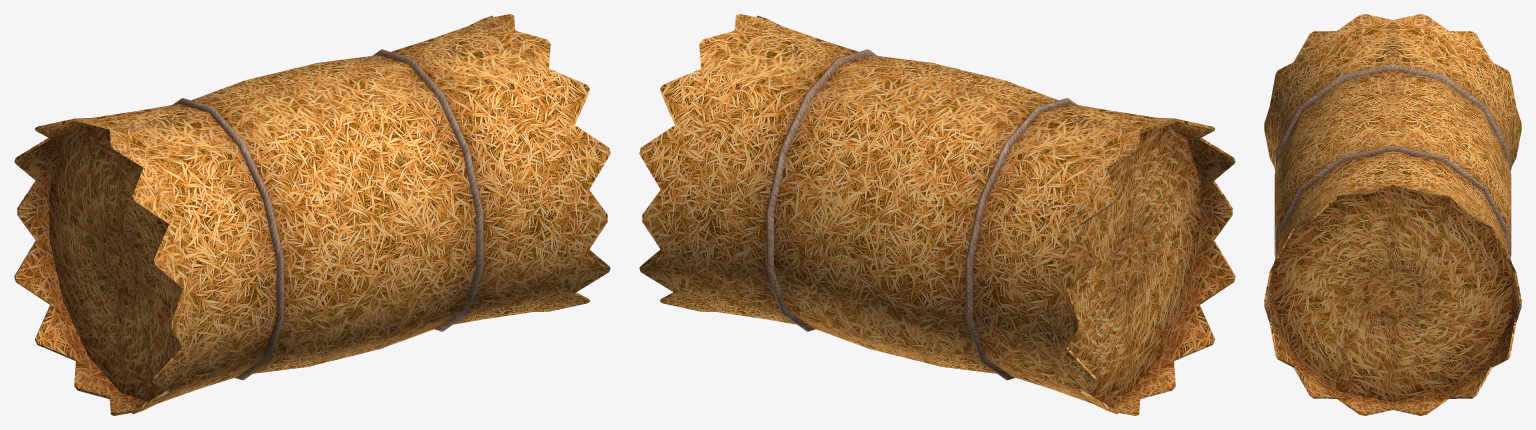
The model's file is HayStack01.FBX.
3 renders of one model, left to right at view 1: azimuth 30°, elevation 25°; view 2: azimuth 150°, elevation 25°; view 3: azimuth 270°, elevation 25°, orthographic. The views are drawn at different scales.
Parts seen in each view (by area): view 1: HayStack01; view 2: HayStack01; view 3: HayStack01.
Boxes of the visible parts, bbox=[...] form: HayStack01: bbox=[14, 14, 610, 415]; HayStack01: bbox=[639, 14, 1235, 415]; HayStack01: bbox=[1264, 14, 1521, 415].
Size of what is drawn, in the model's own units: 1.45 by 0.8183 by 0.8494.
